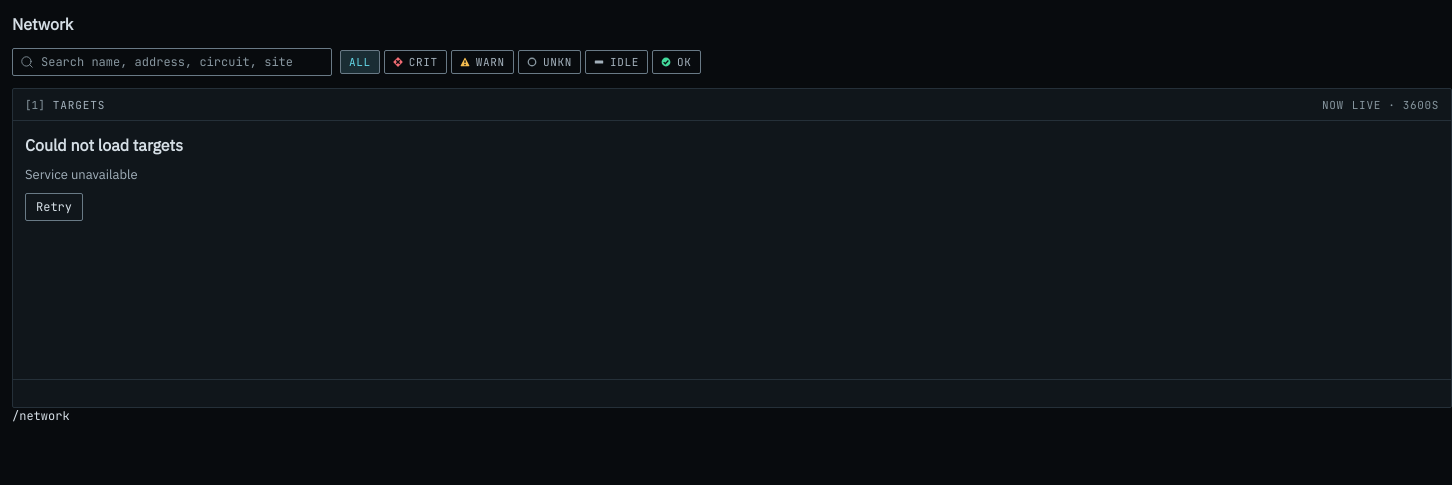
Test: empty, error and provenance › shows an inline error with Retry, never sample data, and recovers
This screenshot has width=1452, height=485.
Expected: the message shows "Could not load targets", x1=25 y1=135 x2=183 y2=155
Click the button "Retry" at (54, 207), box x1=25 y1=193 x2=83 y2=221
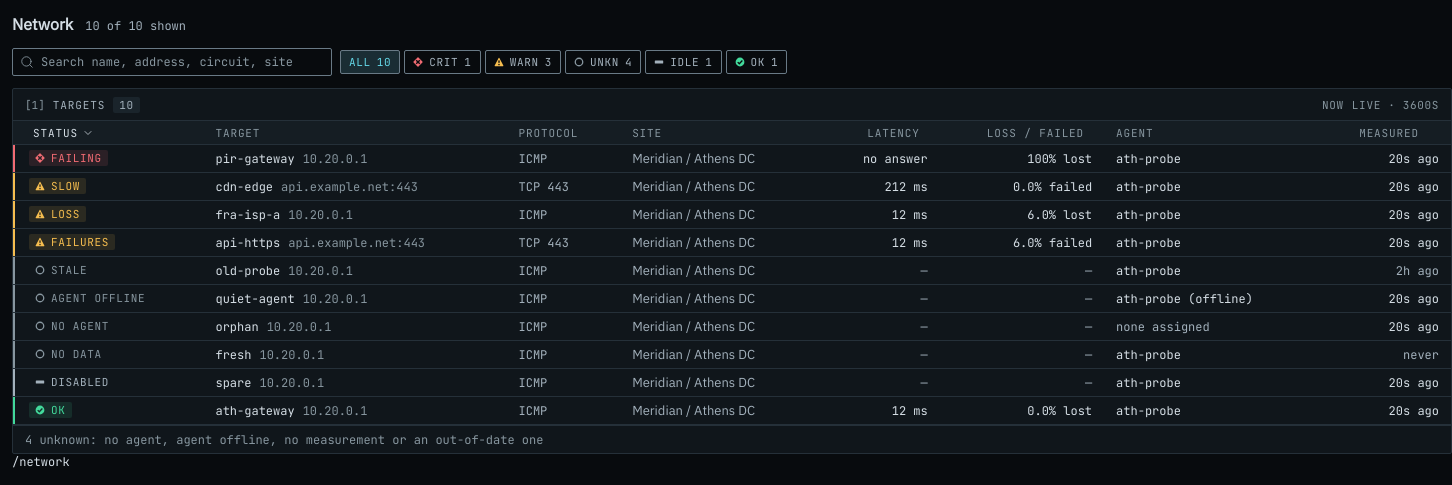
Result: the message "Could not load targets Service unavailable Retry" is gone
